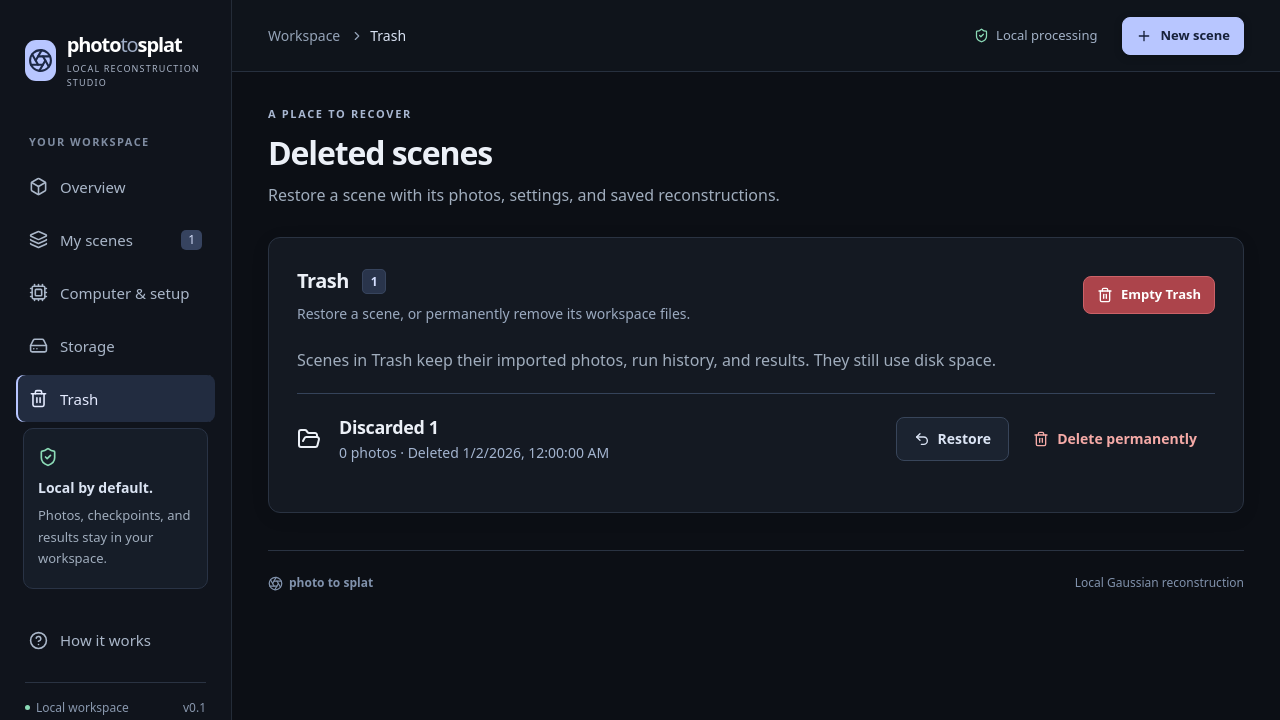
Test case: does not include scenes newly trashed after the confirmation was opened
Click the button "Empty Trash": (1149, 295) [1083,276,1215,314]
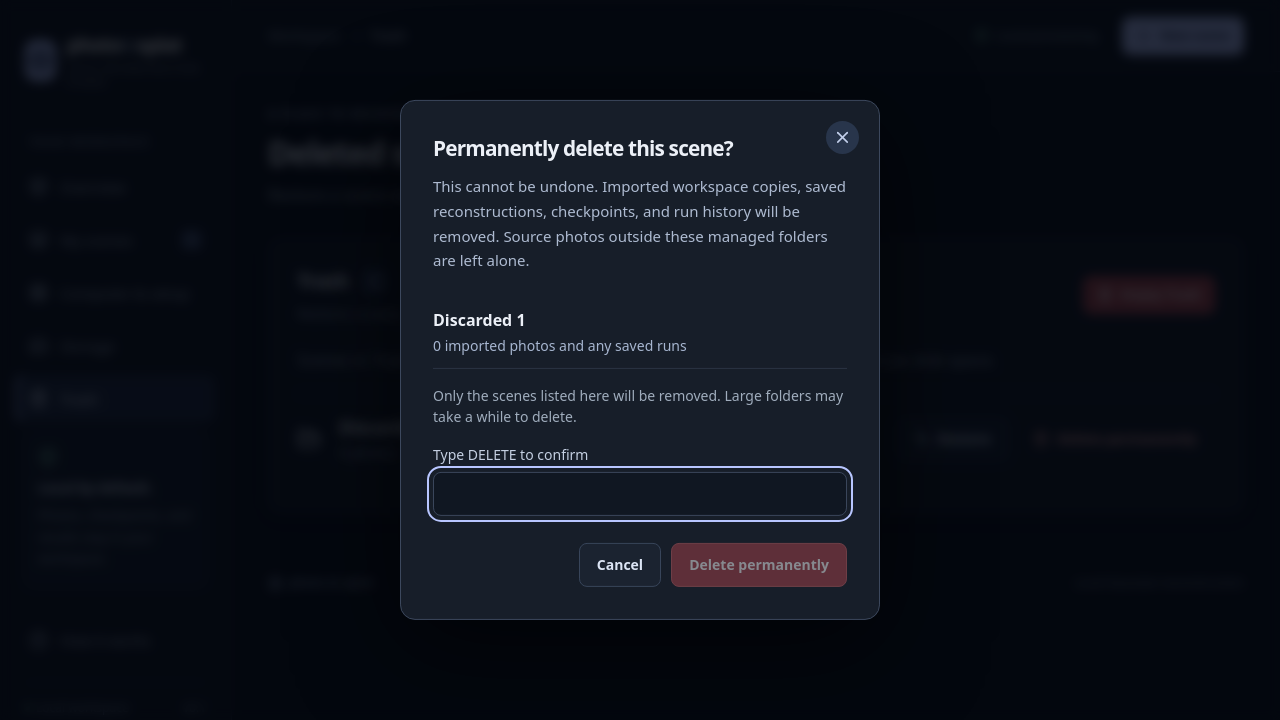
In the field labelled "Type DELETE to confirm": (640, 494) [433,472,847,516], type "DELETE"
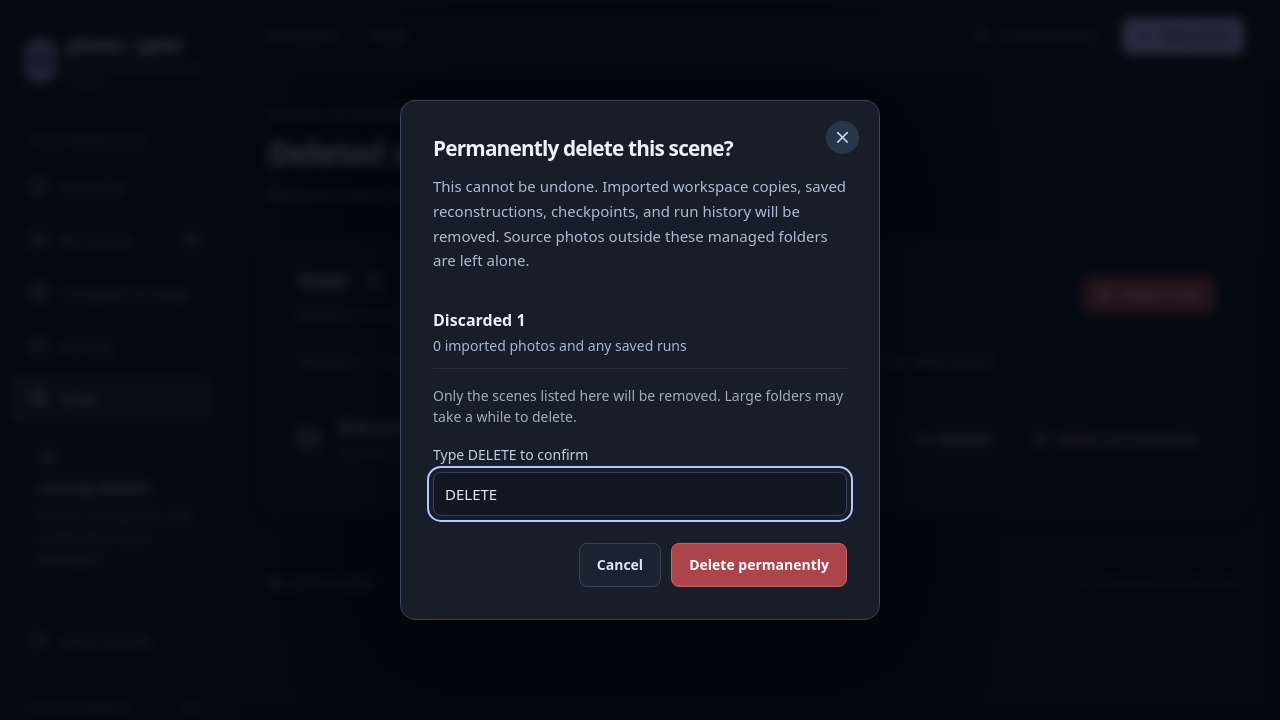
Click the button "Delete permanently": (759, 565) [671,543,847,587]
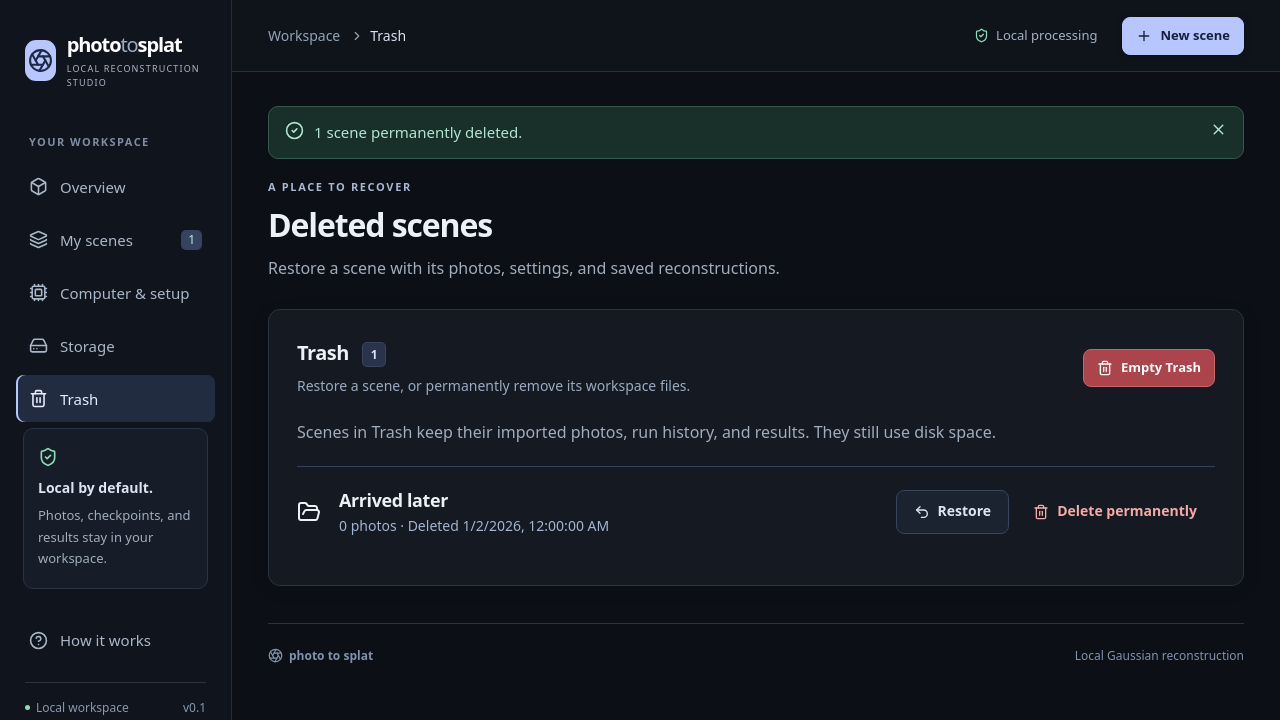
Expected: the heading "Arrived later" is shown, [339,488,448,512]
